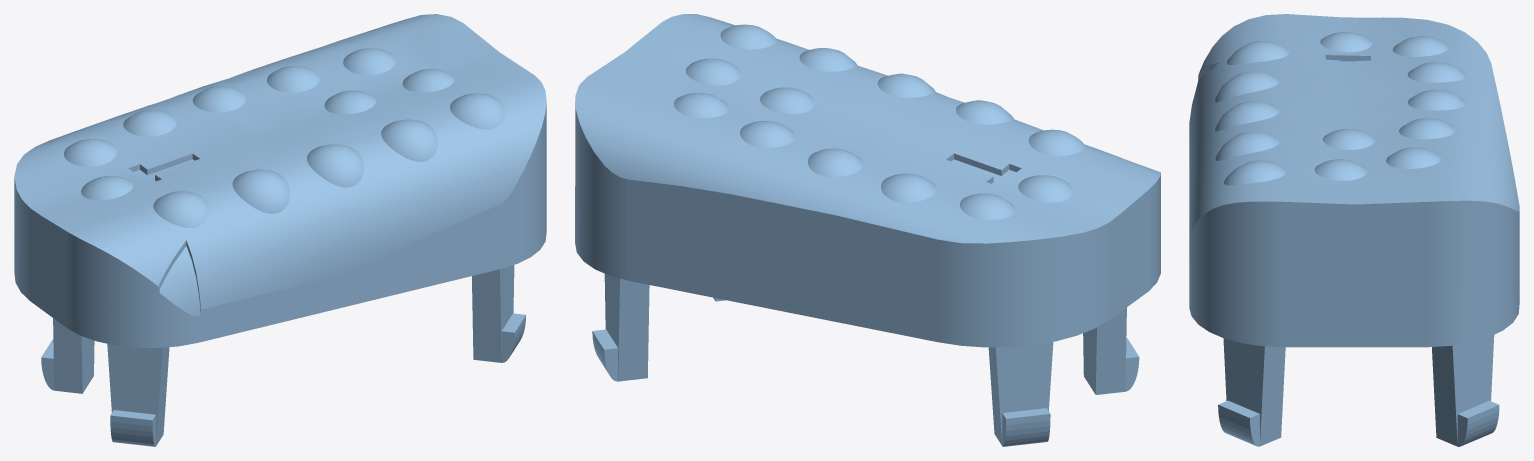
The picture shows the model from 3 angles, left to right: view 1: azimuth 30°, elevation 25°; view 2: azimuth 150°, elevation 25°; view 3: azimuth 270°, elevation 25°; orthographic projection. The views are drawn at different scales.
Visible parts, largest first — view 1: =>[0:1:1:3], =>[0:1:1:4], =>[0:1:1:5], =>[0:1:1:6]; view 2: =>[0:1:1:3], =>[0:1:1:6], =>[0:1:1:4]; view 3: =>[0:1:1:3], =>[0:1:1:5].
Part boxes in pixels (<box>): =>[0:1:1:3]: <box>14,14,546,347</box>; =>[0:1:1:4]: <box>107,344,169,446</box>; =>[0:1:1:5]: <box>472,265,525,362</box>; =>[0:1:1:6]: <box>41,318,94,393</box>; =>[0:1:1:3]: <box>575,14,1160,381</box>; =>[0:1:1:6]: <box>988,342,1053,446</box>; =>[0:1:1:4]: <box>1083,307,1139,394</box>; =>[0:1:1:3]: <box>1189,14,1519,446</box>; =>[0:1:1:5]: <box>1218,338,1285,446</box>.
Bounding box in the file's own units: 38.92 × 20.53 × 23.28.
